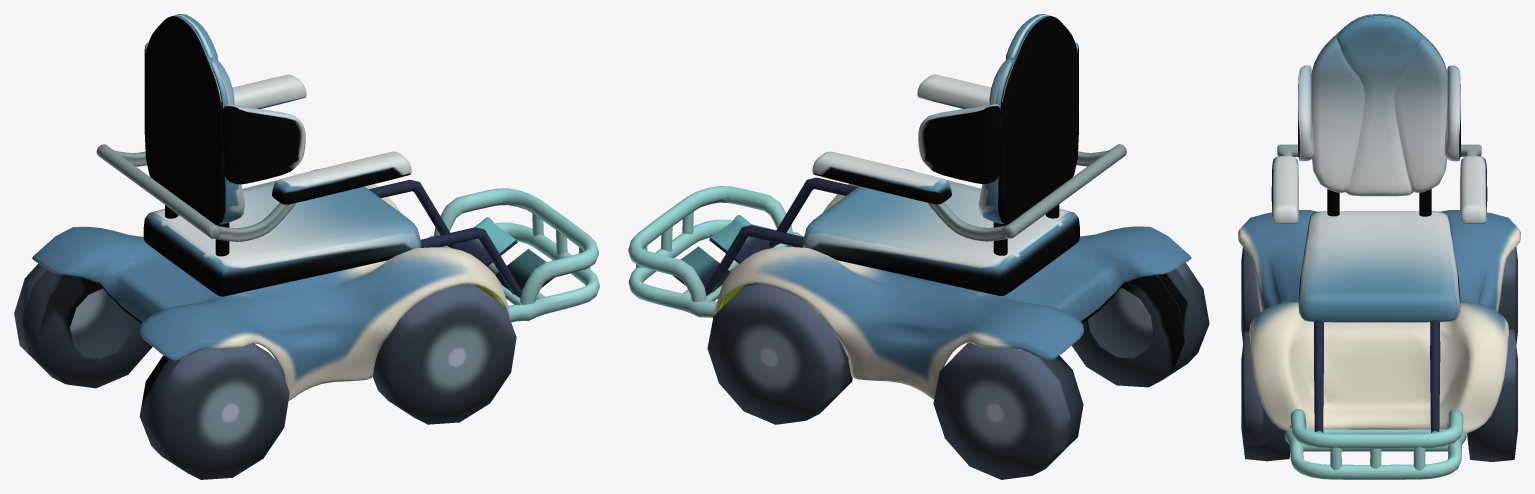
The model's file is WheeChairl_04.fbx.
3 renders of one model, left to right at view 1: azimuth 30°, elevation 25°; view 2: azimuth 150°, elevation 25°; view 3: azimuth 270°, elevation 25°, orthographic. The views are drawn at different scales.
Visible parts, largest first — view 1: WheelChair_01.009, WheelChair_01.010, WheelChair_01.008, WheelChair_01.011, WheelChair_01.006; view 2: WheelChair_01.009, WheelChair_01.010, WheelChair_01.008, WheelChair_01.011, WheelChair_01.006; view 3: WheelChair_01.009, WheelChair_01.008, WheelChair_01.010, WheelChair_01.011, WheelChair_01.006.
Part boxes in pixels (box(x1,y1,x2,y2)): WheelChair_01.009: box(143, 14, 420, 296); WheelChair_01.010: box(14, 263, 516, 479); WheelChair_01.008: box(32, 168, 510, 400); WheelChair_01.011: box(96, 144, 599, 322); WheelChair_01.006: box(165, 179, 554, 298); WheelChair_01.009: box(803, 14, 1079, 295); WheelChair_01.010: box(707, 263, 1209, 479); WheelChair_01.008: box(714, 168, 1191, 399); WheelChair_01.011: box(628, 144, 1126, 317); WheelChair_01.006: box(672, 177, 1059, 295); WheelChair_01.009: box(1271, 14, 1487, 322); WheelChair_01.008: box(1238, 210, 1520, 433); WheelChair_01.010: box(1241, 247, 1517, 461); WheelChair_01.011: box(1277, 144, 1481, 479); WheelChair_01.006: box(1314, 189, 1440, 433).
Bounding box in the file's own units: 4419 × 3509 × 2523.
